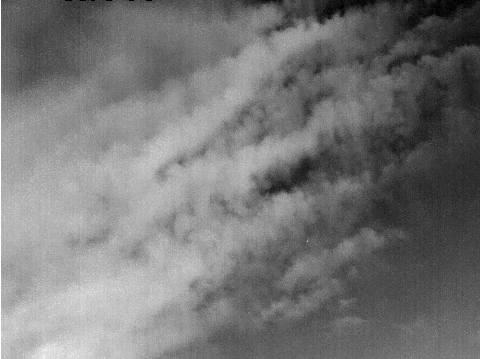dim target: (305, 238, 310, 243)
